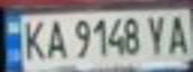1: (90, 15, 109, 57)
4: (106, 15, 127, 56)
8: (121, 14, 145, 56)
9: (69, 16, 93, 60)
A: (163, 11, 193, 56), (42, 16, 69, 61)
K: (18, 16, 48, 62)
Y: (142, 12, 172, 57)
